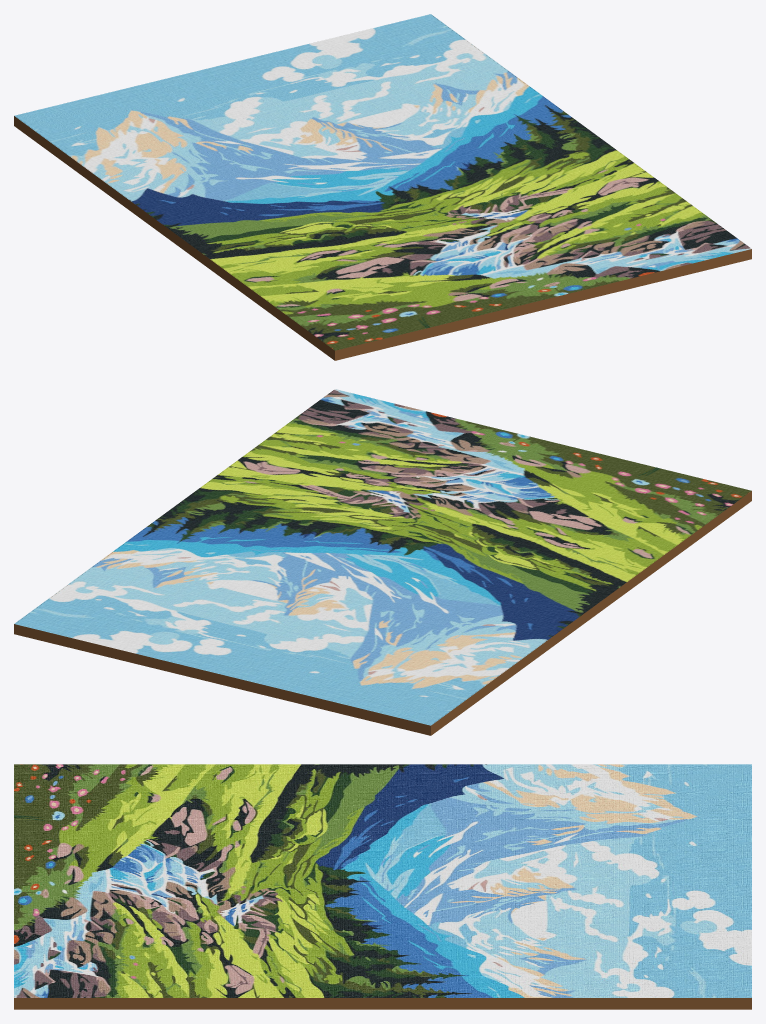
The model's file is puzzle_010.fbx.
3 renders of one model, top to bottom at view 1: azimuth 30°, elevation 25°; view 2: azimuth 150°, elevation 25°; view 3: azimuth 270°, elevation 25°, orthographic. The views are drawn at different scales.
Parts seen in each view (by area): view 1: piece_r00_c00, piece_r00_c01, piece_r02_c00, piece_r01_c00, piece_r00_c02, piece_r03_c00, piece_r01_c01, piece_r02_c01, piece_r01_c02, piece_r02_c02, piece_r03_c01, piece_r03_c02; view 2: piece_r03_c00, piece_r00_c00, piece_r02_c00, piece_r01_c00, piece_r03_c01, piece_r00_c01, piece_r03_c02, piece_r01_c01, piece_r02_c01, piece_r00_c02, piece_r01_c02, piece_r02_c02; view 3: piece_r00_c02, piece_r01_c02, piece_r02_c02, piece_r00_c00, piece_r00_c01, piece_r03_c02, piece_r02_c00, piece_r01_c00, piece_r01_c01, piece_r03_c00, piece_r02_c01, piece_r03_c01.
Part boxes in pixels (bbox=[...]): piece_r00_c00: bbox=[254, 258, 473, 360]; piece_r00_c01: bbox=[394, 224, 612, 326]; piece_r02_c00: bbox=[94, 140, 312, 243]; piece_r01_c00: bbox=[174, 199, 393, 301]; piece_r00_c02: bbox=[533, 190, 751, 292]; piece_r03_c00: bbox=[14, 82, 232, 184]; piece_r01_c01: bbox=[314, 165, 532, 257]; piece_r02_c01: bbox=[233, 107, 451, 199]; piece_r01_c02: bbox=[453, 131, 671, 223]; piece_r02_c02: bbox=[372, 73, 590, 165]; piece_r03_c01: bbox=[153, 48, 371, 140]; piece_r03_c02: bbox=[292, 14, 510, 106]; piece_r03_c00: bbox=[292, 633, 511, 735]; piece_r00_c00: bbox=[533, 457, 751, 559]; piece_r02_c00: bbox=[372, 574, 591, 676]; piece_r01_c00: bbox=[453, 515, 671, 618]; piece_r03_c01: bbox=[153, 599, 371, 701]; piece_r00_c01: bbox=[394, 423, 612, 515]; piece_r03_c02: bbox=[14, 565, 232, 667]; piece_r01_c01: bbox=[314, 482, 532, 574]; piece_r02_c01: bbox=[233, 540, 451, 632]; piece_r00_c02: bbox=[255, 389, 473, 481]; piece_r01_c02: bbox=[175, 448, 393, 540]; piece_r02_c02: bbox=[94, 506, 312, 598]; piece_r00_c02: bbox=[14, 920, 231, 1009]; piece_r01_c02: bbox=[198, 920, 417, 1009]; piece_r02_c02: bbox=[383, 920, 602, 1009]; piece_r00_c00: bbox=[14, 764, 239, 855]; piece_r00_c01: bbox=[14, 842, 233, 936]; piece_r03_c02: bbox=[567, 920, 751, 1009]; piece_r02_c00: bbox=[383, 764, 603, 858]; piece_r01_c00: bbox=[198, 764, 418, 856]; piece_r01_c01: bbox=[198, 842, 417, 933]; piece_r03_c00: bbox=[567, 764, 751, 858]; piece_r02_c01: bbox=[383, 842, 602, 933]; piece_r03_c01: bbox=[567, 842, 751, 934].
Bounding box in the file's own units: 300 × 7 × 400.
Materials: 1 (1 with a texture image).
